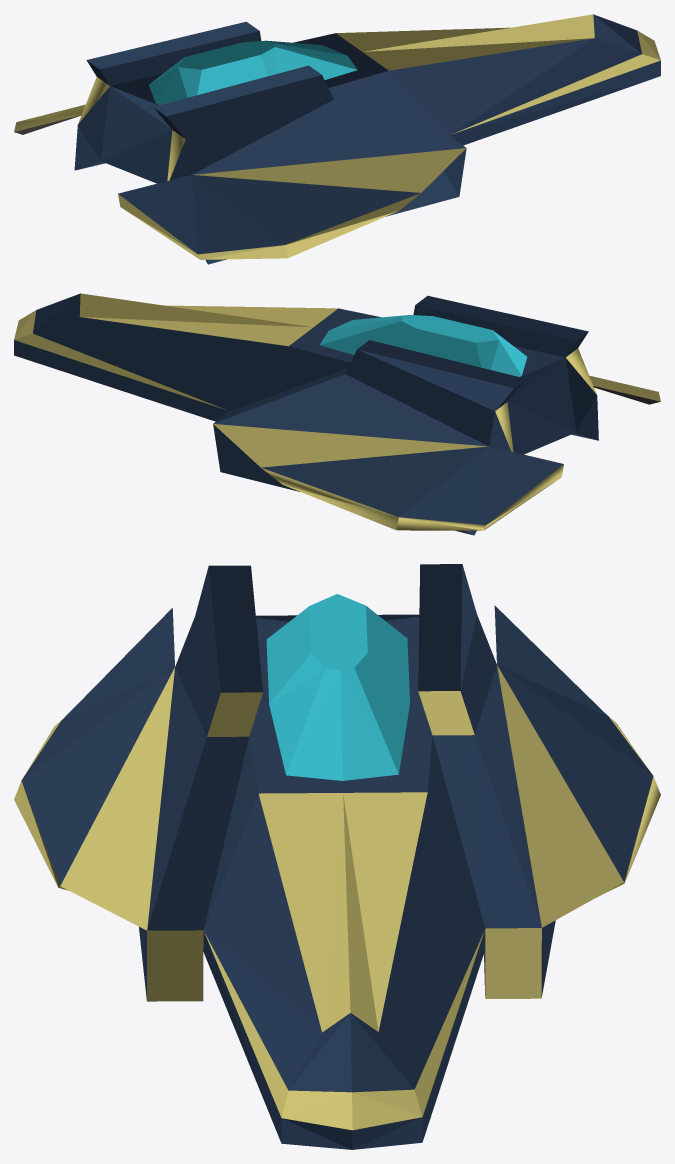
Rendered from shuttle.obj.
3 renders of one model, top to bottom at view 1: azimuth 30°, elevation 25°; view 2: azimuth 150°, elevation 25°; view 3: azimuth 270°, elevation 25°, orthographic. The views are drawn at different scales.
Visible parts, largest first — view 1: Plane; view 2: Plane; view 3: Plane.
Boxes of the visible parts, x1,y1,x2,y2 form: Plane: (14,14,660,264); Plane: (14,293,660,535); Plane: (14,564,660,1149).
Bounding box in the file's own units: 7.95 × 1.8 × 4.59.
